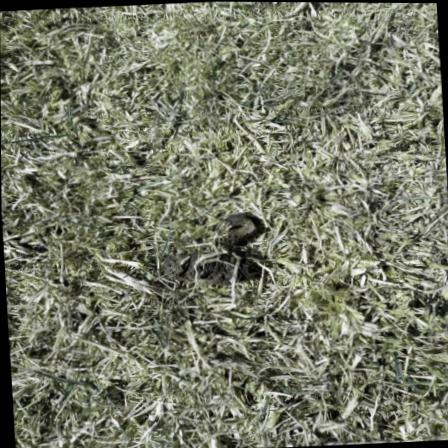dog-poop: (149, 219, 263, 296)
